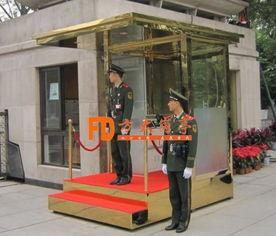up: (161, 85, 199, 236), (106, 63, 134, 189)
